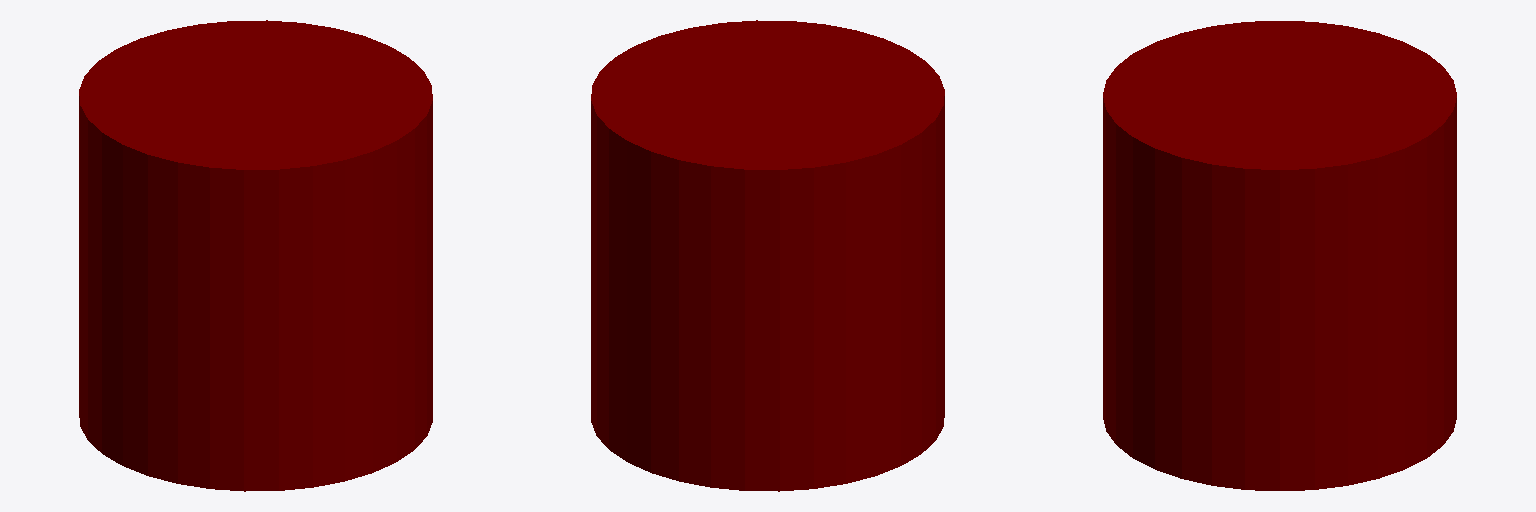
robot.urdf — myfirst:
<?xml version="1.0"?>
 <robot name="myfirst">
 
   <material name="red">
     <color rgba="0.5 0 0 1"/>
   </material>
   
   <link name="base_link">
     <visual>
       <geometry>
         <cylinder length="0.4" radius="0.2"/>
       </geometry>
       <material name="red"/>
     </visual>
     <collision>
       <geometry>
         <cylinder length="0.4" radius="0.2"/>
       </geometry>
     </collision>
     <inertial>
       <mass value="1"/>
       <inertia ixx="1.0" ixy="0.0" ixz="0.0" iyy="1.0" iyz="0.0" izz="1.0"/>
     </inertial>
   </link>

 </robot>

--- Render facts (derived) ---
3 views of the same robot in one strip: view 1: azimuth 30°, elevation 25°; view 2: azimuth 150°, elevation 25°; view 3: azimuth 270°, elevation 25° (orthographic).
Model myfirst with 1 links and 0 joints (none), rooted at base_link, posed every joint at zero.
Links seen in each view (by area): view 1: base_link; view 2: base_link; view 3: base_link.
Boxes of the visible links, x1,y1,x2,y2 form: base_link: [79, 20, 432, 491]; base_link: [591, 20, 944, 491]; base_link: [1103, 21, 1456, 490].
Size in the robot's own frame: 0.4 by 0.4 by 0.4 metres.
Geometry: primitives only (box / cylinder / sphere), no mesh files.
